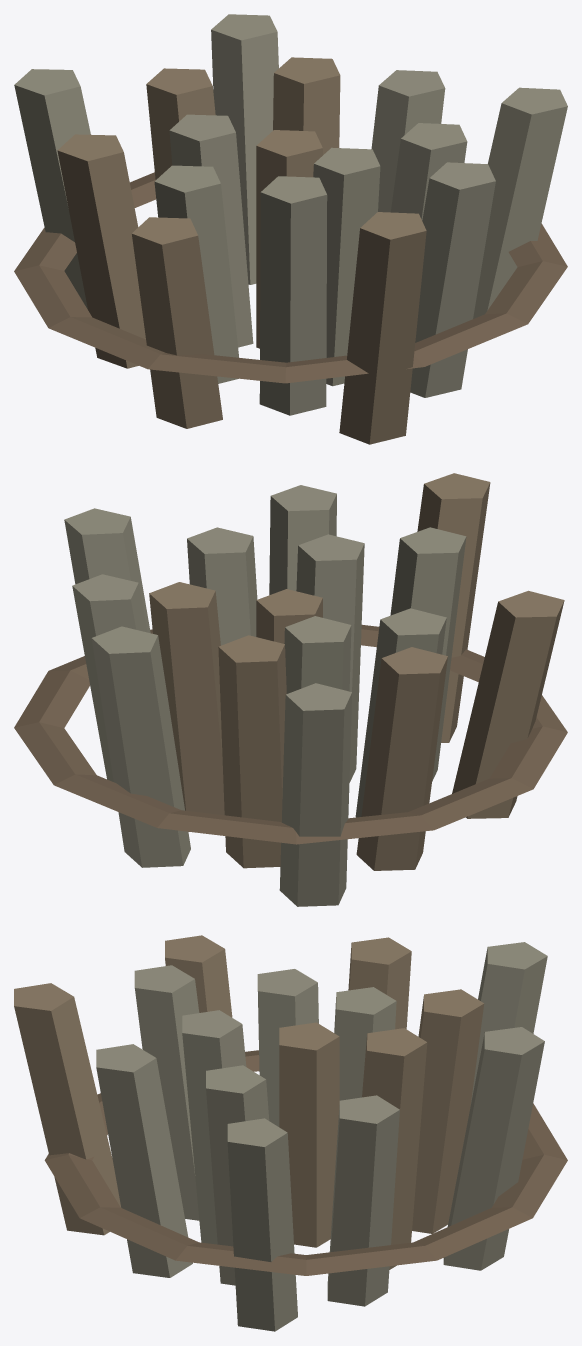
The model's file is reed_bundle.glb.
3 views of the same model, one above another, from view 1: azimuth 30°, elevation 25°; view 2: azimuth 150°, elevation 25°; view 3: azimuth 270°, elevation 25° (orthographic). The views are drawn at different scales.
Parts seen in each view (by area): view 1: reed_bundle; view 2: reed_bundle; view 3: reed_bundle.
Boxes of the visible parts, bbox=[...] form: reed_bundle: bbox=[14, 14, 567, 444]; reed_bundle: bbox=[14, 473, 567, 906]; reed_bundle: bbox=[14, 935, 567, 1331].
Size of the model in its own units: 1.92 by 0.85 by 1.92.
